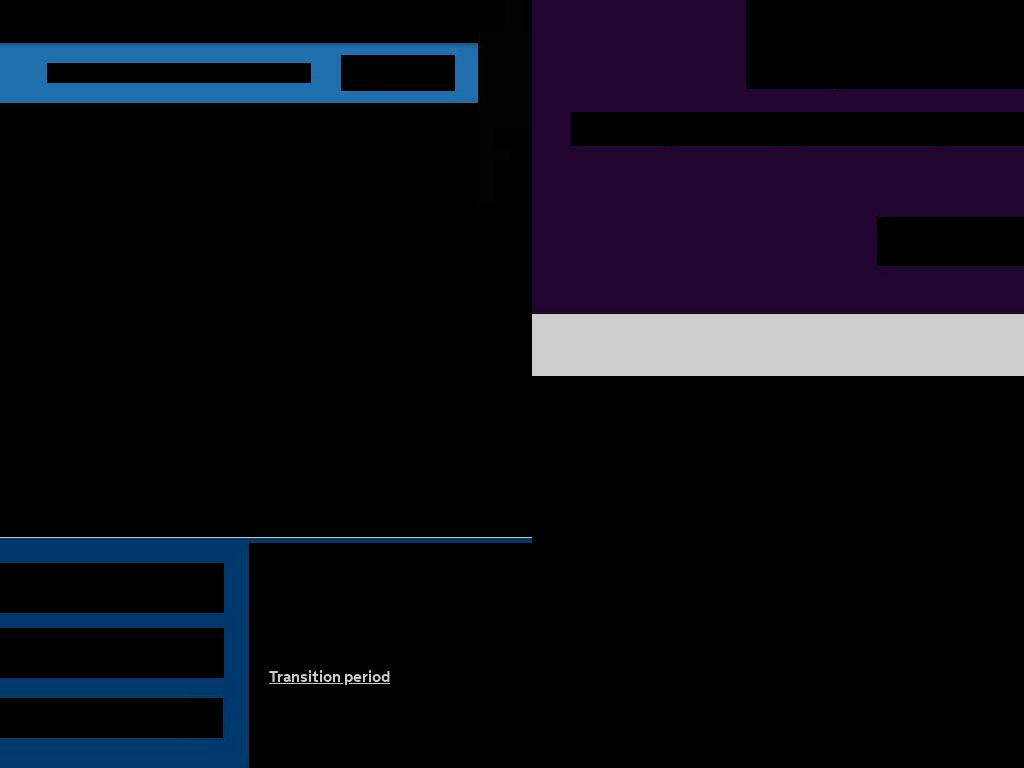button: (877, 217, 1024, 266), (341, 55, 455, 91), (398, 0, 505, 31), (174, 0, 273, 31), (293, 0, 378, 31), (76, 0, 155, 31), (0, 0, 57, 31), (183, 698, 223, 738), (510, 138, 532, 164)
field: (0, 698, 183, 738)
heading: (746, 0, 1024, 89), (571, 112, 1024, 146), (0, 563, 224, 613), (269, 563, 532, 588)
image: (82, 204, 406, 376), (677, 674, 1024, 768), (415, 204, 532, 376), (532, 606, 1024, 644), (249, 422, 532, 467), (0, 204, 73, 376), (728, 602, 818, 692), (678, 668, 716, 706), (648, 516, 686, 554), (608, 586, 646, 624), (998, 566, 1024, 604), (40, 210, 65, 234)
link: (269, 597, 532, 638), (269, 642, 532, 663), (269, 717, 423, 738), (269, 667, 391, 688), (269, 692, 337, 713)
text: (612, 376, 1024, 441), (697, 469, 947, 514), (0, 417, 234, 442), (0, 628, 224, 653), (0, 653, 224, 678), (47, 63, 311, 83), (894, 228, 1024, 254)
